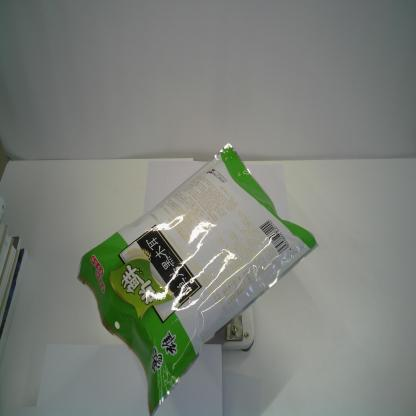Dried Food: (73, 141, 320, 413)
